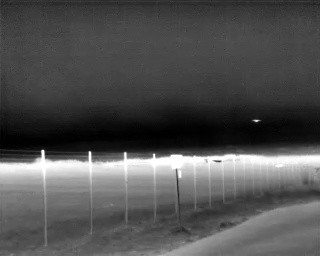AIRPLANE: (251, 116, 262, 125)
